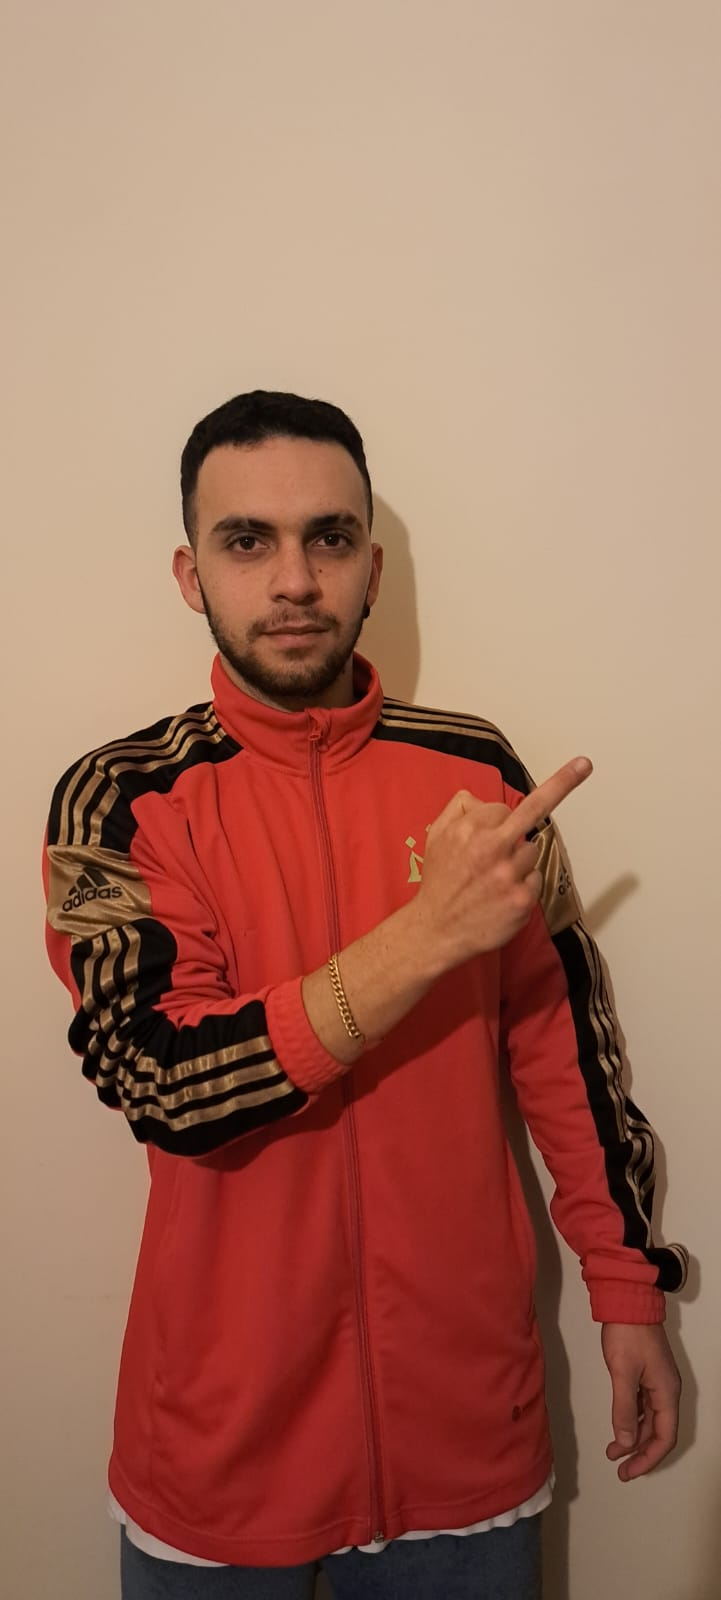fck: (396, 749, 607, 970)
